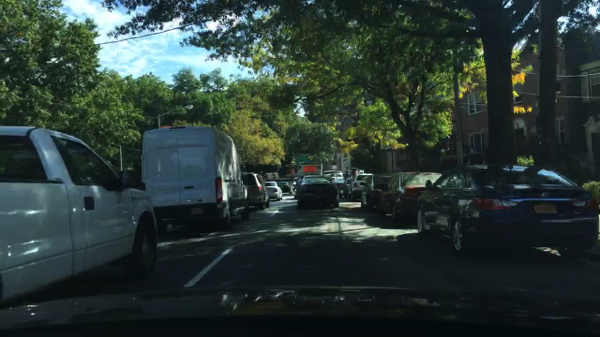car: (0, 125, 158, 308), (416, 164, 599, 258), (141, 126, 250, 234), (376, 171, 439, 222), (296, 178, 338, 209), (359, 174, 394, 210), (241, 171, 271, 209), (292, 175, 326, 199), (346, 173, 373, 201), (264, 182, 283, 200), (337, 178, 352, 198), (277, 182, 294, 193), (333, 178, 343, 191), (288, 179, 298, 190)
traffic sign: (295, 152, 311, 163)
truck: (298, 163, 321, 179)
